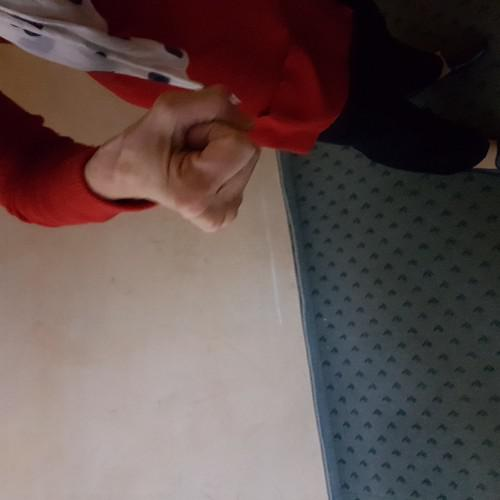scissors: (79, 81, 277, 242)
